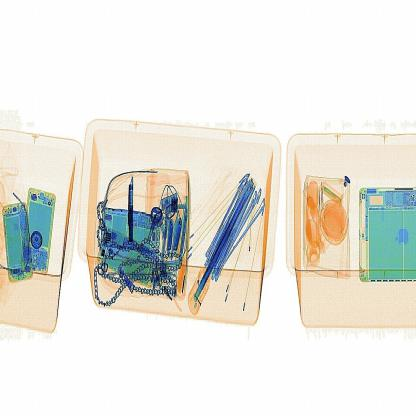pliers: (122, 172, 136, 247)
